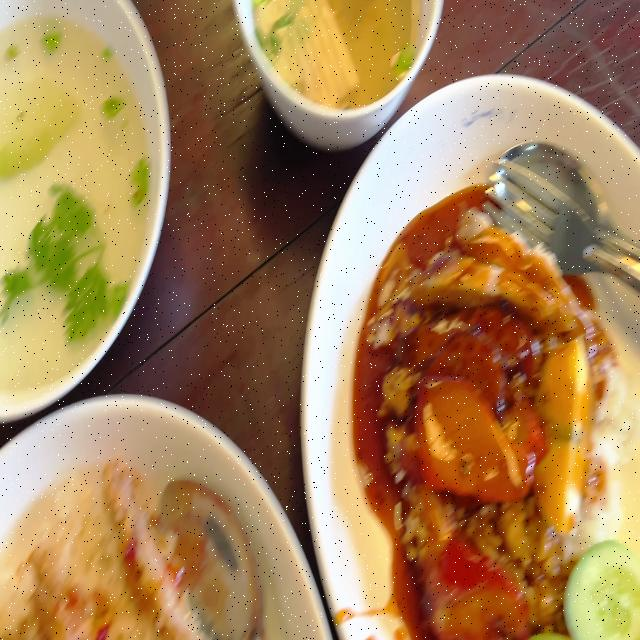boiled_egg: (536, 334, 591, 526)
chainese_sausage: (421, 299, 538, 400)
crispy_pork: (419, 212, 579, 322)
cucumber: (562, 537, 640, 640)
fried_chicken: (105, 469, 194, 637)
red_pork: (416, 375, 532, 496), (419, 529, 522, 640)
red_pork_and_crispy_pork: (386, 210, 640, 640)
